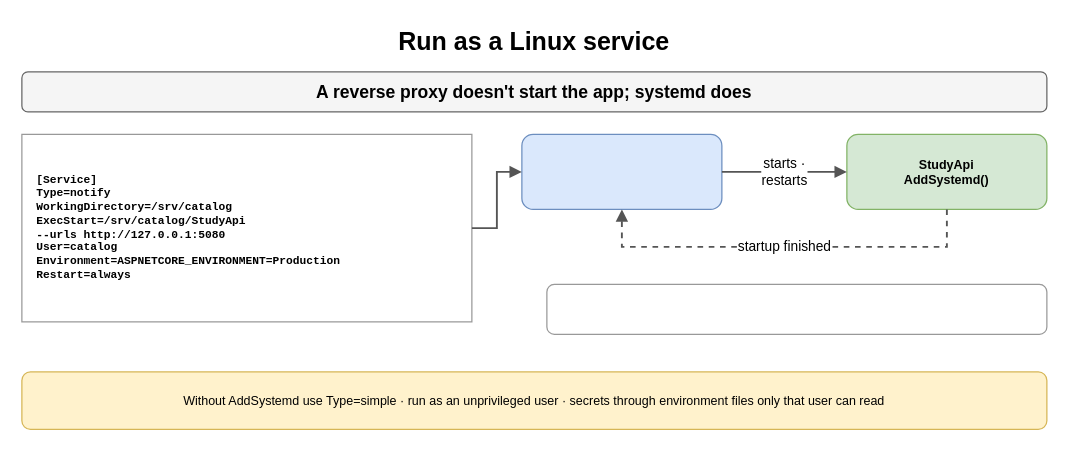
Image size: 1069x451. Some labels were removed from this diagram. Here are the shapes that lost their labels. From the top down, the centre of each, then its label:
At point (621, 171): "systemd systemctl enable --now".
At point (796, 308): "journal · journalctl -u".
